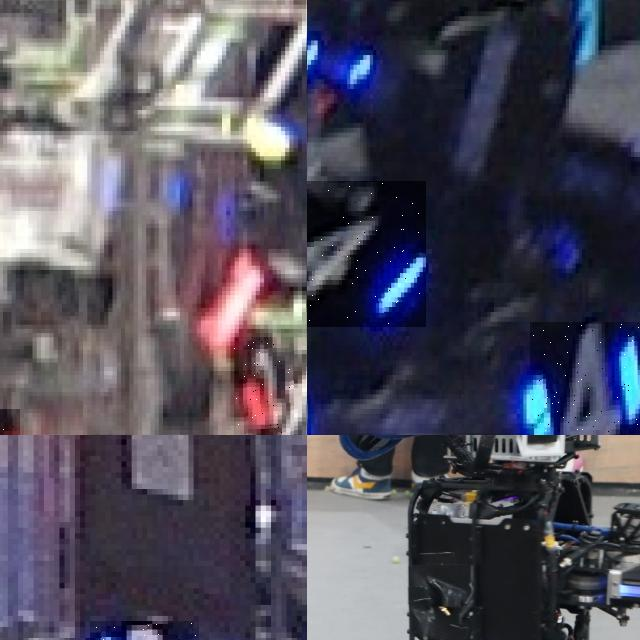B2: (90, 621, 198, 640)
B4: (307, 181, 425, 326), (529, 322, 640, 435)
R2: (234, 337, 293, 435)
